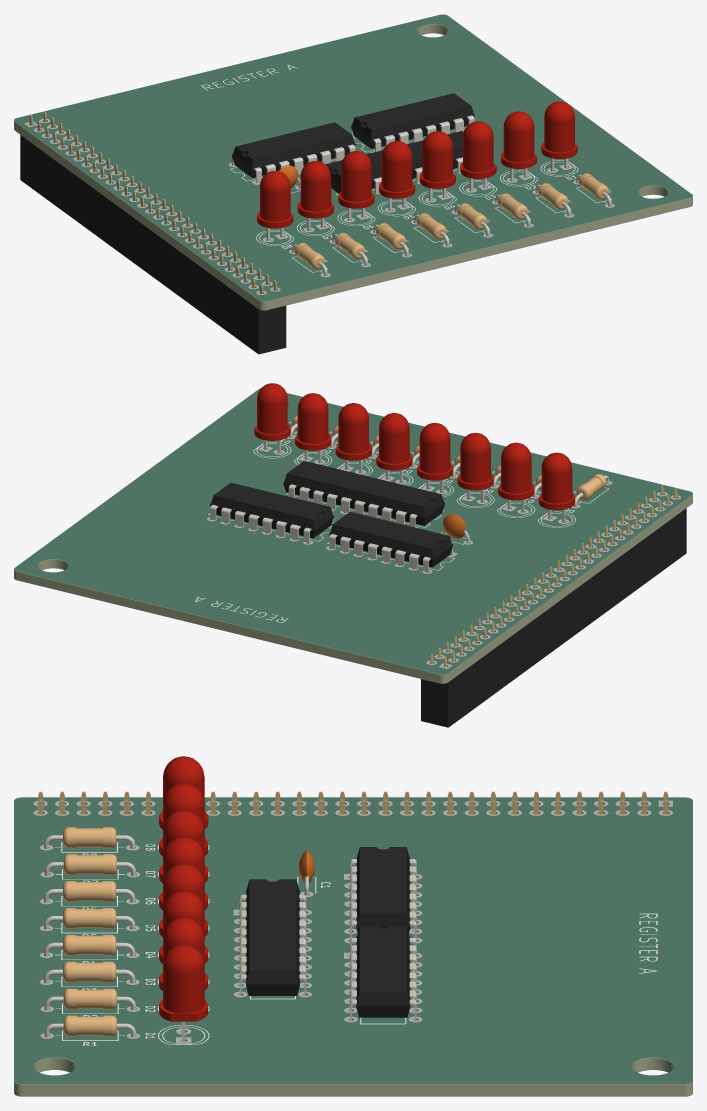
File: board-view.glb
3 views of the same model, one above another, from view 1: azimuth 30°, elevation 25°; view 2: azimuth 150°, elevation 25°; view 3: azimuth 270°, elevation 25° (orthographic). The views are drawn at different scales.
Visible parts, largest first — view 1: =>[0:1:1:17], =>[0:1:1:7] (×8), =>[0:1:1:5], =>[0:1:1:11] (×2), =>[0:1:1:19], =>[0:1:1:3] (×8), =>[0:1:1:14], =>[0:1:1:15], =>[0:1:1:13], =>[0:1:1:18]; view 2: =>[0:1:1:17], =>[0:1:1:7] (×8), =>[0:1:1:5], =>[0:1:1:11] (×2), =>[0:1:1:19], =>[0:1:1:13], =>[0:1:1:14], =>[0:1:1:15], =>[0:1:1:18], =>[0:1:1:3], =>[0:1:1:9]; view 3: =>[0:1:1:17], =>[0:1:1:7] (×8), =>[0:1:1:11] (×2), =>[0:1:1:3] (×8), =>[0:1:1:19], =>[0:1:1:13], =>[0:1:1:14], =>[0:1:1:5], =>[0:1:1:15], =>[0:1:1:18].
Boxes of the visible parts, bbox=[...] form: =>[0:1:1:17]: bbox=[14, 14, 692, 301]; =>[0:1:1:7] (×8): bbox=[257, 101, 577, 240]; =>[0:1:1:5]: bbox=[20, 112, 286, 354]; =>[0:1:1:11] (×2): bbox=[232, 93, 474, 183]; =>[0:1:1:19]: bbox=[14, 24, 692, 310]; =>[0:1:1:3] (×8): bbox=[292, 173, 611, 275]; =>[0:1:1:14]: bbox=[24, 119, 614, 294]; =>[0:1:1:15]: bbox=[201, 64, 611, 272]; =>[0:1:1:13]: bbox=[325, 131, 463, 193]; =>[0:1:1:18]: bbox=[14, 33, 692, 310]; =>[0:1:1:17]: bbox=[14, 388, 692, 674]; =>[0:1:1:7] (×8): bbox=[254, 383, 574, 522]; =>[0:1:1:5]: bbox=[421, 485, 686, 727]; =>[0:1:1:11] (×2): bbox=[210, 482, 452, 572]; =>[0:1:1:19]: bbox=[14, 402, 692, 683]; =>[0:1:1:13]: bbox=[283, 461, 444, 527]; =>[0:1:1:14]: bbox=[207, 435, 680, 668]; =>[0:1:1:15]: bbox=[195, 421, 608, 622]; =>[0:1:1:18]: bbox=[15, 503, 692, 683]; =>[0:1:1:3]: bbox=[573, 474, 609, 507]; =>[0:1:1:9]: bbox=[439, 513, 469, 543]; =>[0:1:1:17]: bbox=[14, 797, 692, 1084]; =>[0:1:1:7] (×8): bbox=[159, 756, 208, 1041]; =>[0:1:1:11] (×2): bbox=[350, 847, 416, 1020]; =>[0:1:1:3] (×8): bbox=[44, 827, 135, 1037]; =>[0:1:1:19]: bbox=[14, 801, 692, 1096]; =>[0:1:1:13]: bbox=[239, 879, 306, 995]; =>[0:1:1:14]: bbox=[33, 800, 672, 1043]; =>[0:1:1:5]: bbox=[38, 791, 668, 814]; =>[0:1:1:15]: bbox=[55, 842, 657, 1045]; =>[0:1:1:18]: bbox=[14, 1069, 692, 1096].
Size of the model in its own units: 0.08 by 0.0217 by 0.08.
